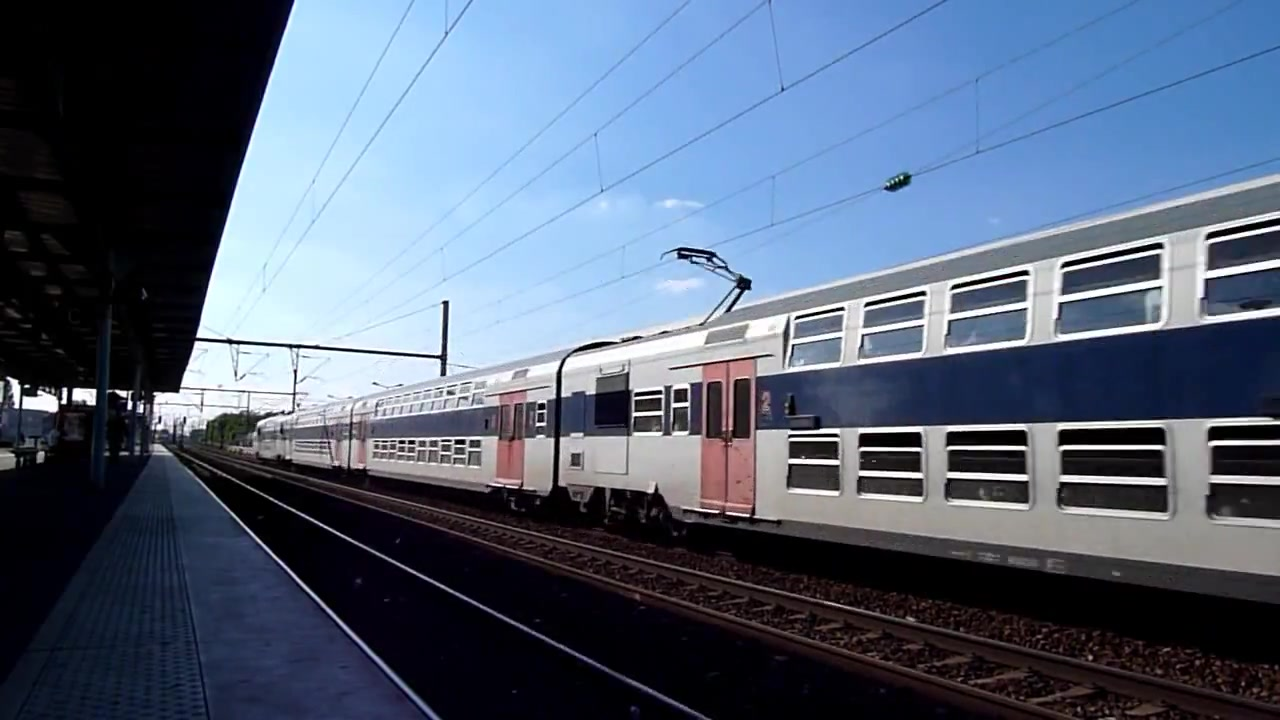train: (250, 178, 1280, 609)
